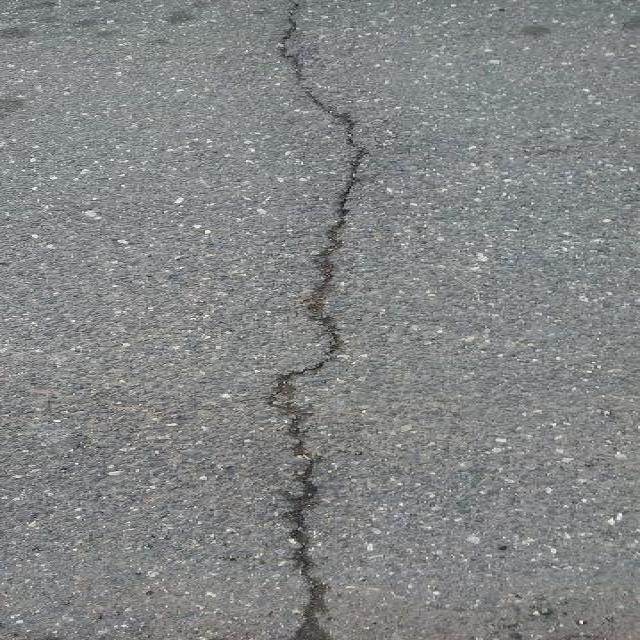Crack: (250, 0, 395, 640)
